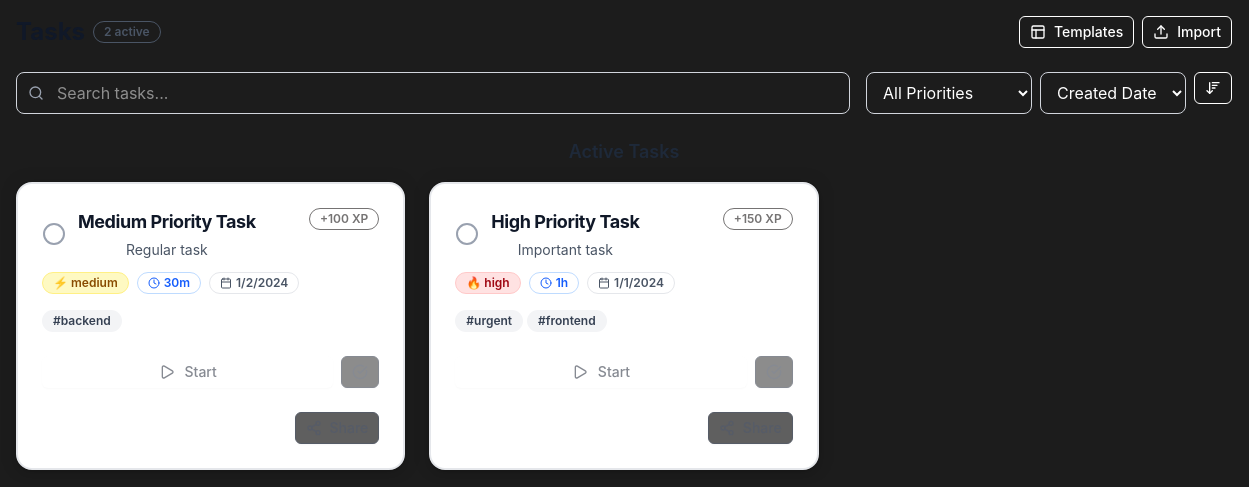
Test: TaskGrid › filters tasks by priority
Select "High Priority" in the 1st dropdown showing "All Priorities" at (949, 93), box [866, 72, 1032, 114]
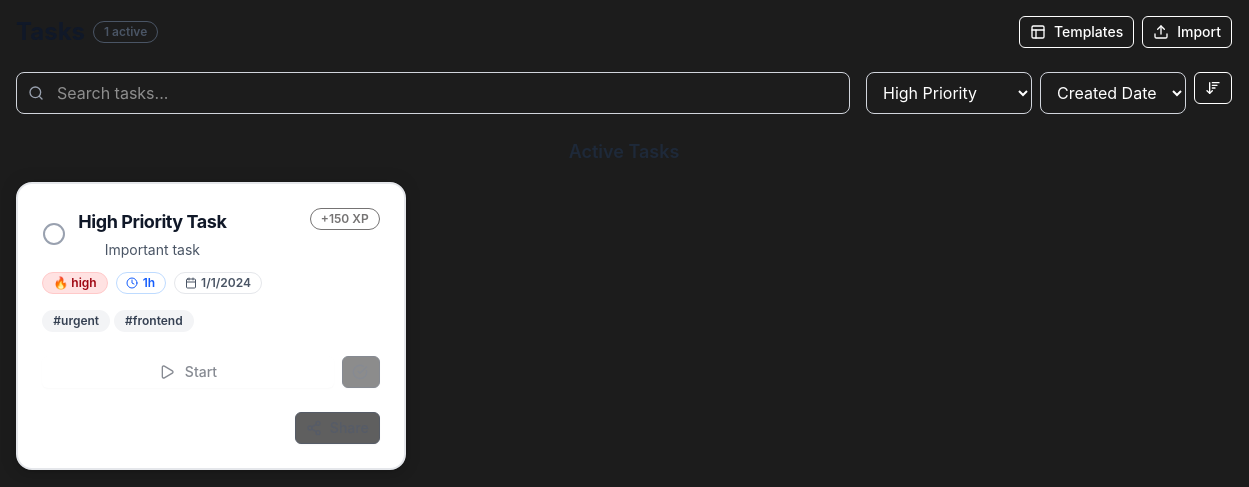
Expected: the heading "High Priority Task" is shown, [78, 208, 226, 236]
Expected: the heading "Medium Priority Task" is gone
